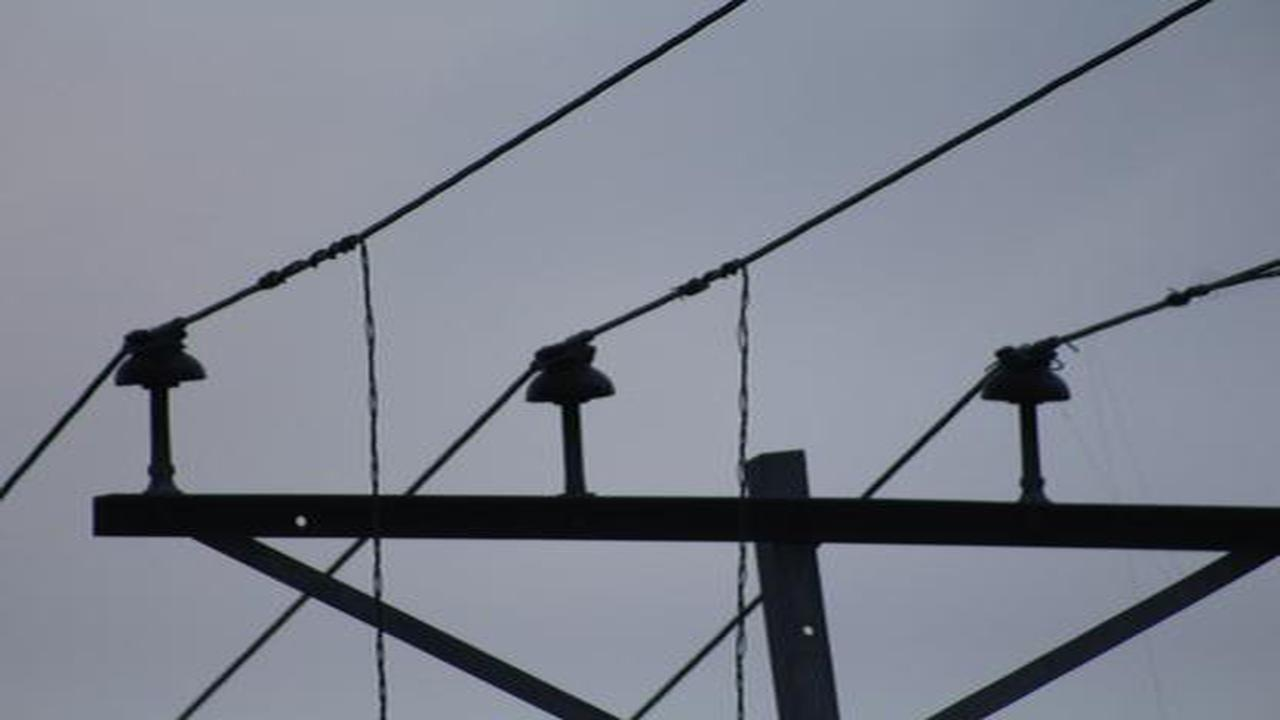insulator_pin: (976, 330, 1089, 418), (524, 330, 620, 413), (112, 318, 216, 394)
